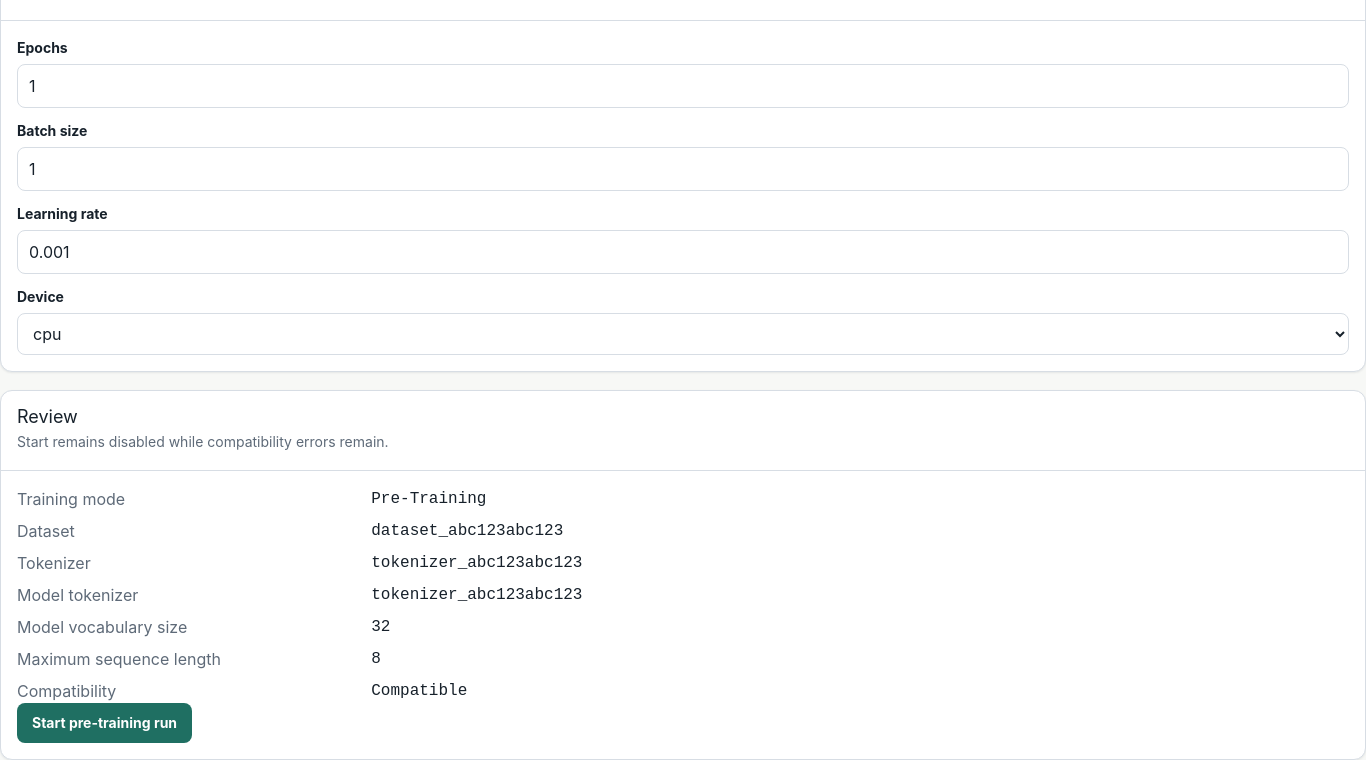
Test: ArcLM Studio 2 pages › starts a pre-training run with explicit mode metadata
(page scrolled)
Expected: the text "Compatible" is shown, [371,682,467,700]
Click the button "Start pre-training run": [105, 723] box [17,703,192,743]
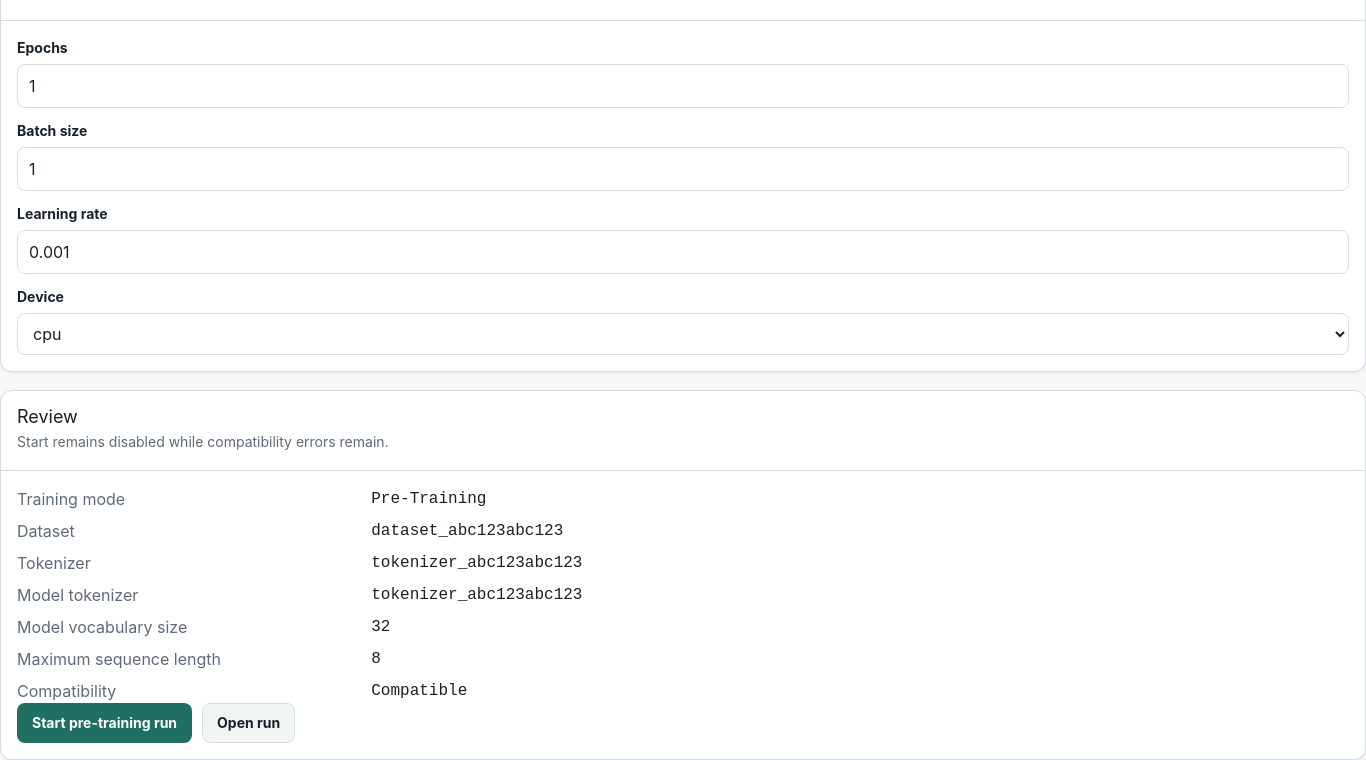
Now the link "Open run" is shown, box [202,703,295,743]
